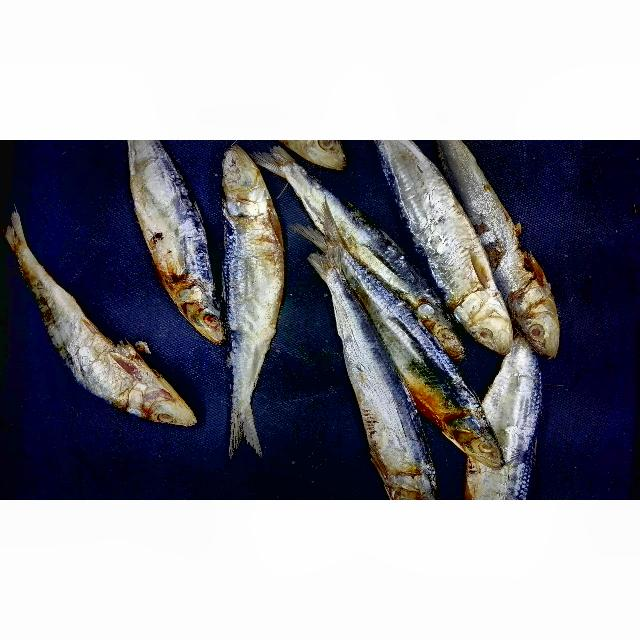Grade_A_Body: (128, 376, 196, 426), (81, 350, 111, 394), (146, 377, 149, 379), (143, 378, 145, 378)
